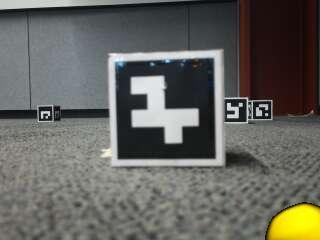lemon: (268, 204, 320, 240)
